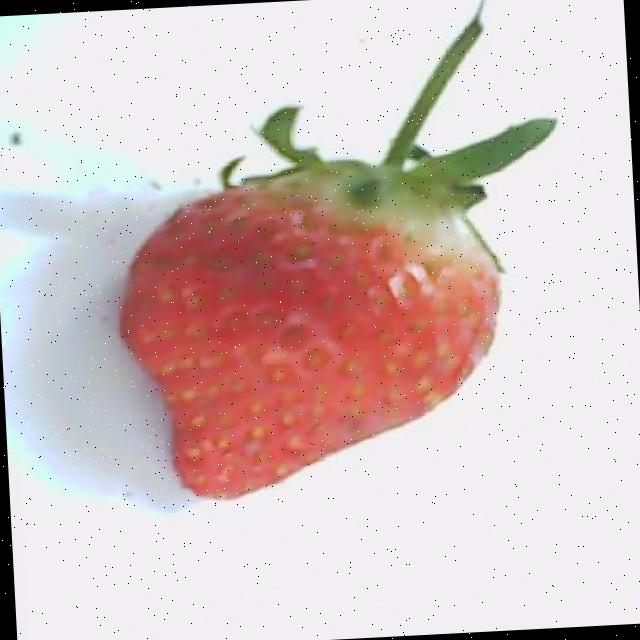strawberry: (122, 0, 555, 497)
